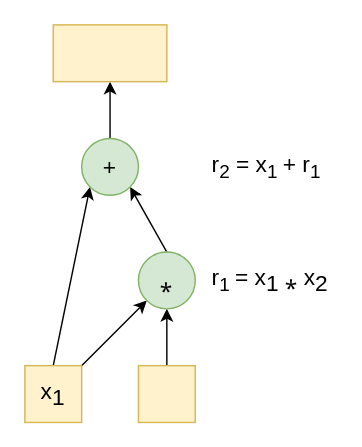
This 362x447 diagram has some shape labels left out. Here are the shapes that lost their labels. From the top down, the centre of each, then its label:
the point at 109,52: f(x 1 ,x 2 )
the point at 166,393: x 2
